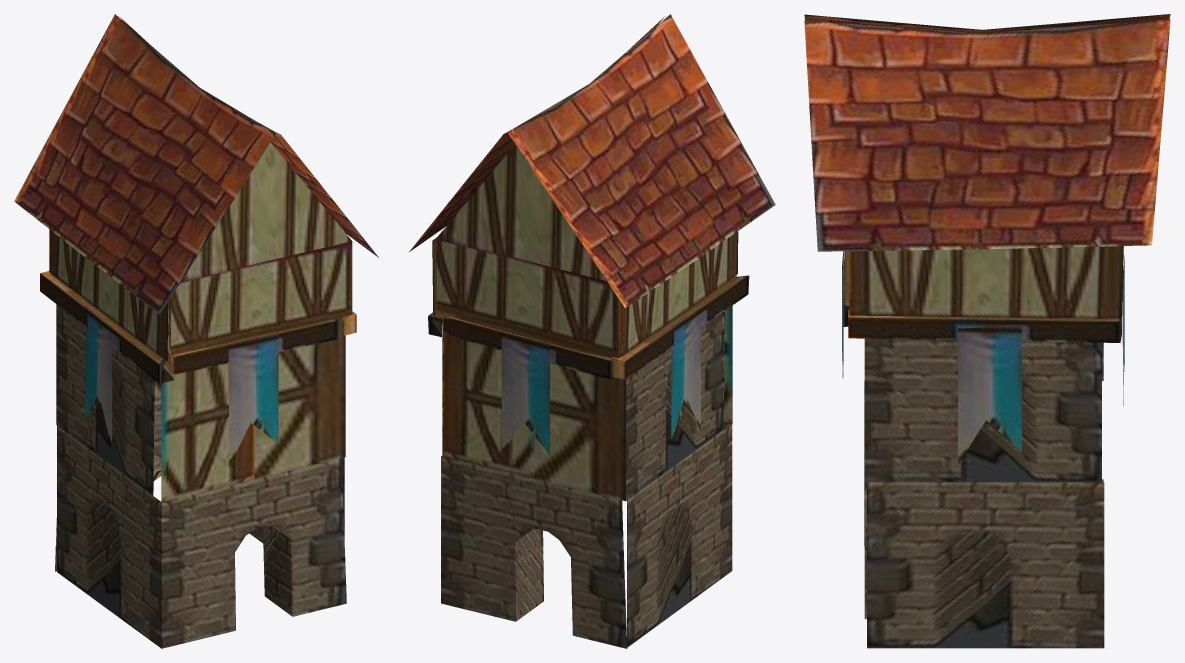
3 views of the same model, side by side, from view 1: azimuth 30°, elevation 25°; view 2: azimuth 150°, elevation 25°; view 3: azimuth 270°, elevation 25° (orthographic). The views are drawn at different scales.
Parts seen in each view (by area): view 1: h3; view 2: h3; view 3: h3.
Boxes of the visible parts, x1,y1,x2,y2 form: h3: (14, 14, 378, 648); h3: (409, 14, 775, 648); h3: (804, 14, 1170, 648).
Size of the model in its own units: 1.28 by 2.87 by 1.63.
Materials: 1 (1 with a texture image).
